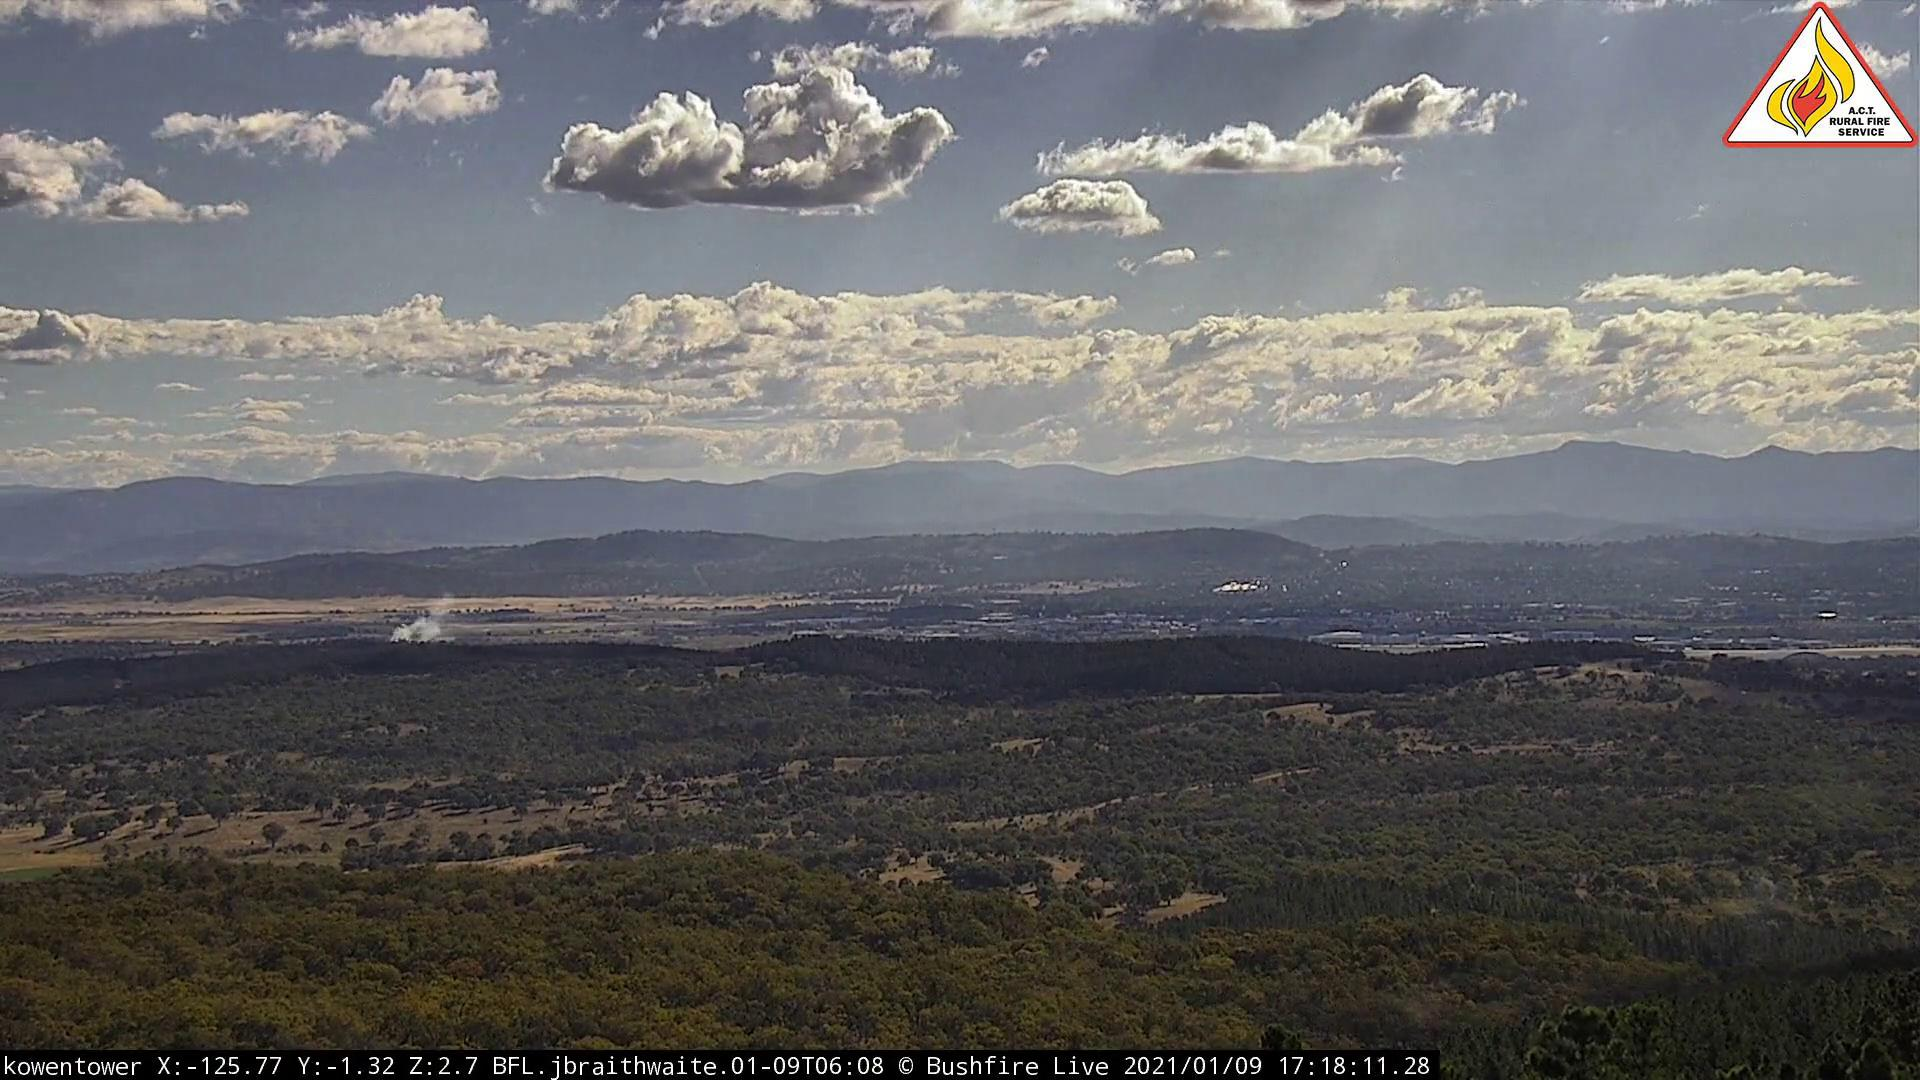Smoke: (386, 589, 465, 655)
